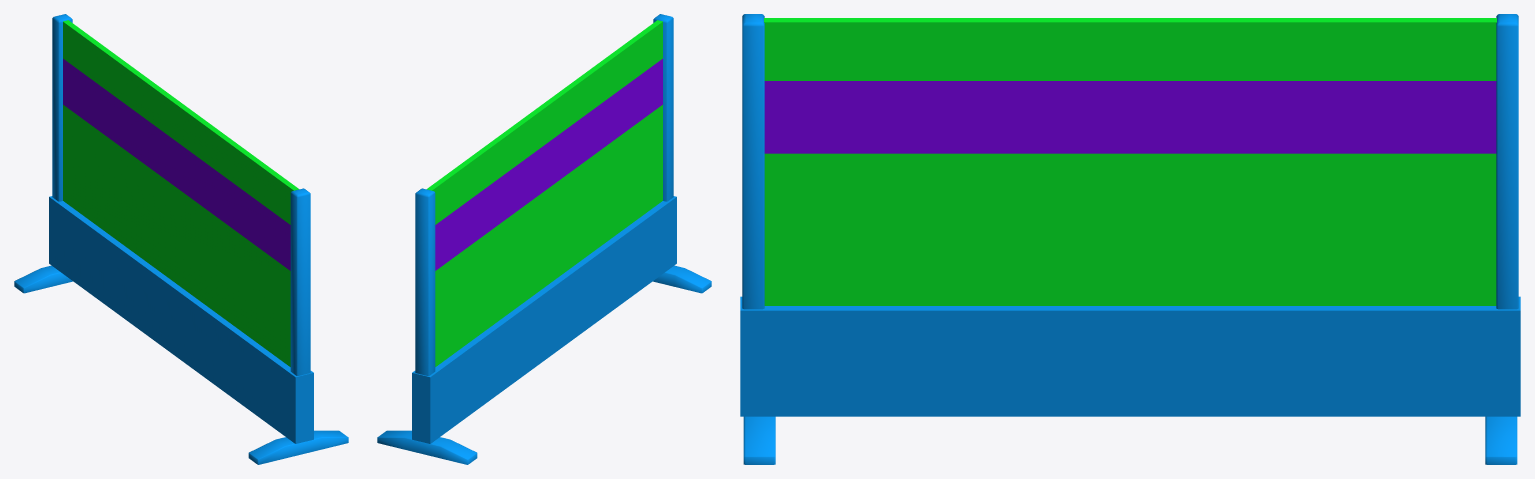
File: SM_Wall_Glass.fbx
The picture shows the model from 3 angles, left to right: view 1: azimuth 30°, elevation 25°; view 2: azimuth 150°, elevation 25°; view 3: azimuth 270°, elevation 25°; orthographic projection. The views are drawn at different scales.
Visible parts, largest first — view 1: SM_Wall_Glass; view 2: SM_Wall_Glass; view 3: SM_Wall_Glass.
Boxes of the visible parts, left/top/right/bottom form: SM_Wall_Glass: left=14, top=14, right=348, bottom=464; SM_Wall_Glass: left=377, top=14, right=711, bottom=464; SM_Wall_Glass: left=740, top=14, right=1520, bottom=464.
Bounding box in the file's own units: 72.48 × 198 × 339.
